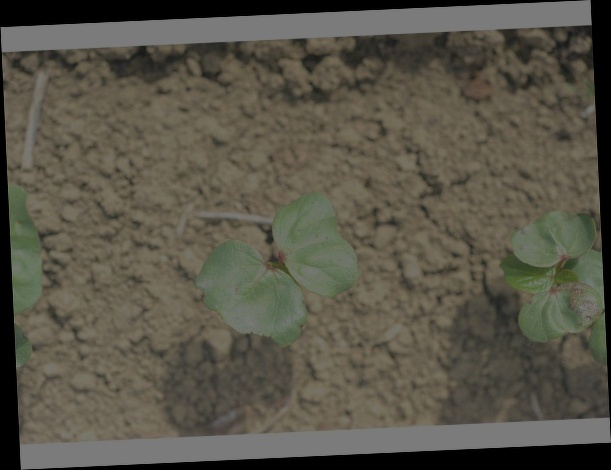cotton: (193, 194, 359, 349), (500, 208, 603, 369)
